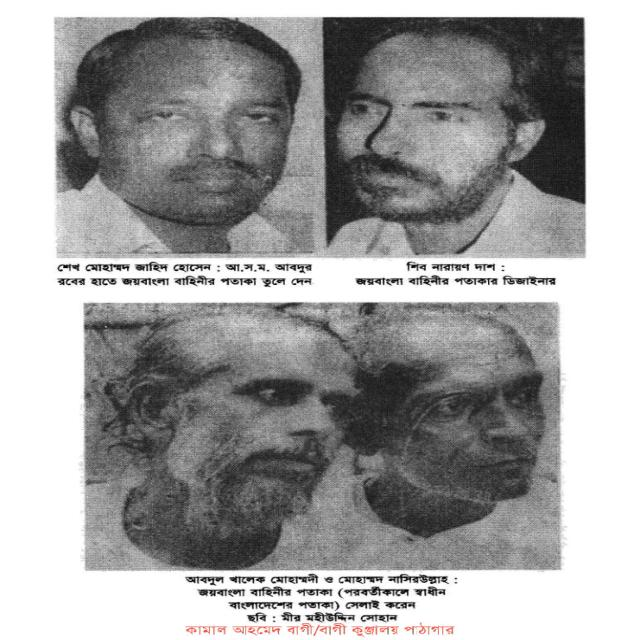caption: (54, 259, 316, 291), (353, 274, 558, 290), (401, 260, 507, 273)
image: (85, 304, 563, 572), (56, 17, 587, 258)
text: (177, 571, 463, 636)
